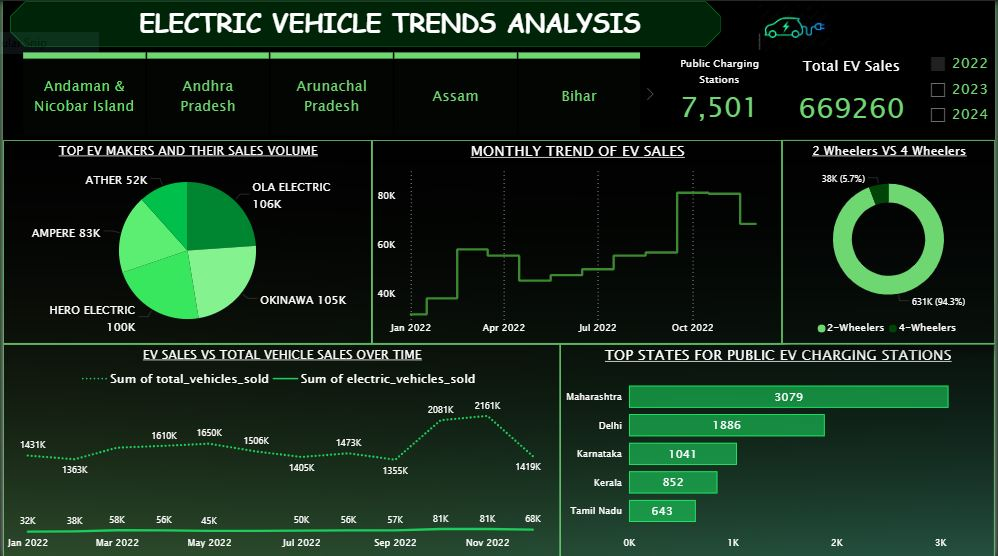

The dashboard page shown, as its layout file describes it:
{"tool":"powerbi","page":{"name":"Page 1","canvas":[1280,720],"ordinal":0},"visuals":[{"type":"stackedAreaChart","title":"MONTHLY TREND OF EV SALES","fields":{"Category":["dim_date.date.Variation.Date Hierarchy.Year","dim_date.date.Variation.Date Hierarchy.Month"],"Y":["Sum(electric_vehicle_sales_by_state.electric_vehicles_sold)"]},"box":[476.1,179.4,529,263.2],"z":0},{"type":"barChart","title":"TOP STATES FOR PUBLIC EV CHARGING STATIONS","fields":{"Y":["Sum(OperationalPC.No. of Operational PCS)"],"Category":["OperationalPC.State"]},"box":[718.7,442.6,561.3,277.4],"z":1000},{"type":"donutChart","title":"2 Wheelers VS 4 Wheelers","fields":{"Y":["Sum(electric_vehicle_sales_by_state.electric_vehicles_sold)"],"Category":["electric_vehicle_sales_by_state.vehicle_category"]},"box":[1005.2,179.4,274.8,263.2],"z":2000},{"type":"card","title":"Total EV Sales","fields":{"Values":["OperationalPC.AVG EV SALES"]},"box":[1004.8,69.4,179.3,109.9],"z":3000},{"type":"card","title":"Public Charging Stations","fields":{"Values":["OperationalPC.AVG PCS"]},"box":[845.8,69.4,159,94],"z":4000},{"type":"pieChart","title":"TOP EV MAKERS AND THEIR SALES VOLUME","fields":{"Category":["electric_vehicle_sales_by_makers (1).maker"],"Y":["Sum(electric_vehicle_sales_by_makers (1).electric_vehicles_sold)"]},"box":[0,179.4,476.1,263.2],"z":5000},{"type":"lineChart","title":"EV SALES VS TOTAL VEHICLE  SALES OVER TIME","fields":{"Category":["electric_vehicle_sales_by_state.date"],"Y":["Sum(electric_vehicle_sales_by_state.total_vehicles_sold)","Sum(electric_vehicle_sales_by_state.electric_vehicles_sold)"]},"box":[0,442.6,718.7,277.4],"z":6000},{"type":"shape","box":[9,0,917.4,59.4],"z":7000},{"type":"textbox","box":[115.7,0,766.3,59.3],"z":8000},{"type":"slicer","title":"TOP STATES FOR PUBLIC EV CHARGING STATIONS","fields":{"Values":["electric_vehicle_sales_by_state.state"]},"box":[0,59.4,846.5,120],"z":9000},{"type":"slicer","title":"Avg PCS","fields":{"Values":["dim_date.date.Variation.Date Hierarchy.Year"]},"box":[1184.1,59.3,95.4,120],"z":10000},{"type":"image","box":[947,0,147.5,69.4],"z":11000}]}

Visuals, with their boxes in screenshot pixels (x1, y1, x2, y2), scaled from the page's 1280x720 canvas onto the 998x556 screenshot:
"MONTHLY TREND OF EV SALES" stackedAreaChart: bbox(371, 139, 784, 342)
"TOP STATES FOR PUBLIC EV CHARGING STATIONS" barChart: bbox(560, 342, 997, 555)
"2 Wheelers VS 4 Wheelers" donutChart: bbox(784, 139, 997, 342)
"Total EV Sales" card: bbox(783, 54, 923, 138)
"Public Charging Stations" card: bbox(659, 54, 783, 126)
"TOP EV MAKERS AND THEIR SALES VOLUME" pieChart: bbox(0, 139, 371, 342)
"EV SALES VS TOTAL VEHICLE  SALES OVER TIME" lineChart: bbox(0, 342, 560, 555)
shape: bbox(7, 0, 722, 46)
textbox: bbox(90, 0, 688, 46)
"TOP STATES FOR PUBLIC EV CHARGING STATIONS" slicer: bbox(0, 46, 660, 139)
"Avg PCS" slicer: bbox(923, 46, 997, 138)
image: bbox(738, 0, 853, 54)
